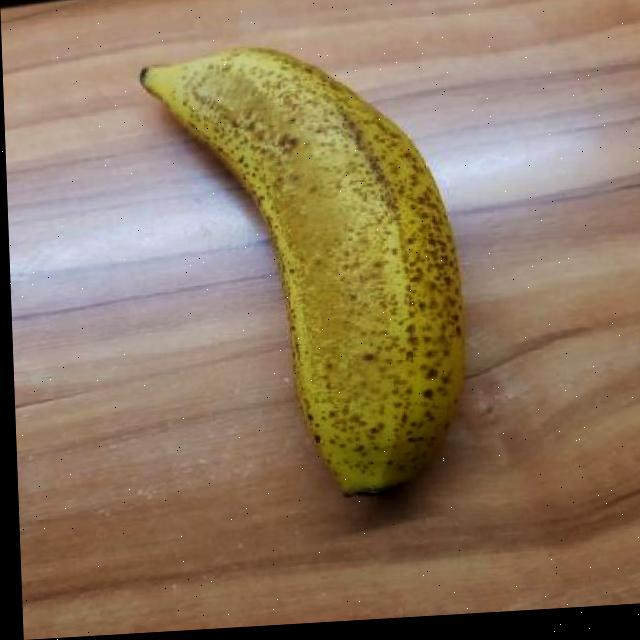banana: (140, 26, 483, 510)
